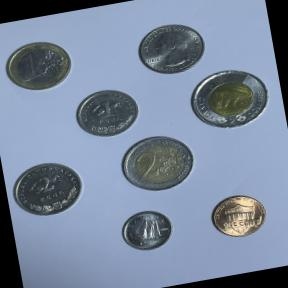1 Euro: (0, 31, 80, 101)
2 Euro: (113, 127, 202, 201)
Canda-10cent-: (112, 202, 181, 258)
Canda-2Dollar-: (182, 61, 277, 137)
Croatia-2Kune-: (6, 153, 91, 228)
US-1cent-: (202, 187, 274, 246)
US-25cent-: (132, 16, 210, 82)
